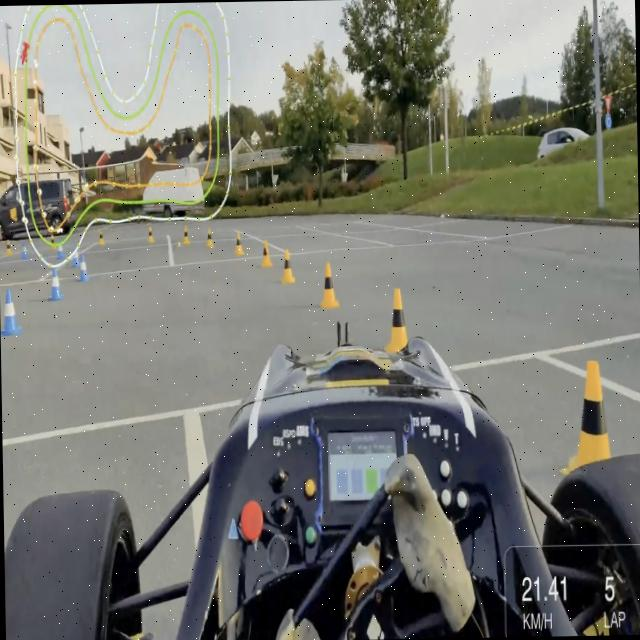blue_cone: (0, 288, 24, 338), (47, 266, 64, 302), (78, 254, 89, 283), (20, 242, 30, 262), (72, 243, 79, 268), (57, 240, 64, 260)
yellow_cone: (560, 354, 618, 478), (384, 285, 409, 354), (316, 261, 342, 310), (277, 248, 297, 286), (258, 238, 272, 269), (232, 229, 245, 257), (204, 227, 216, 249), (147, 222, 157, 244), (4, 237, 14, 258), (181, 224, 190, 246), (96, 229, 106, 248), (50, 232, 55, 250)
